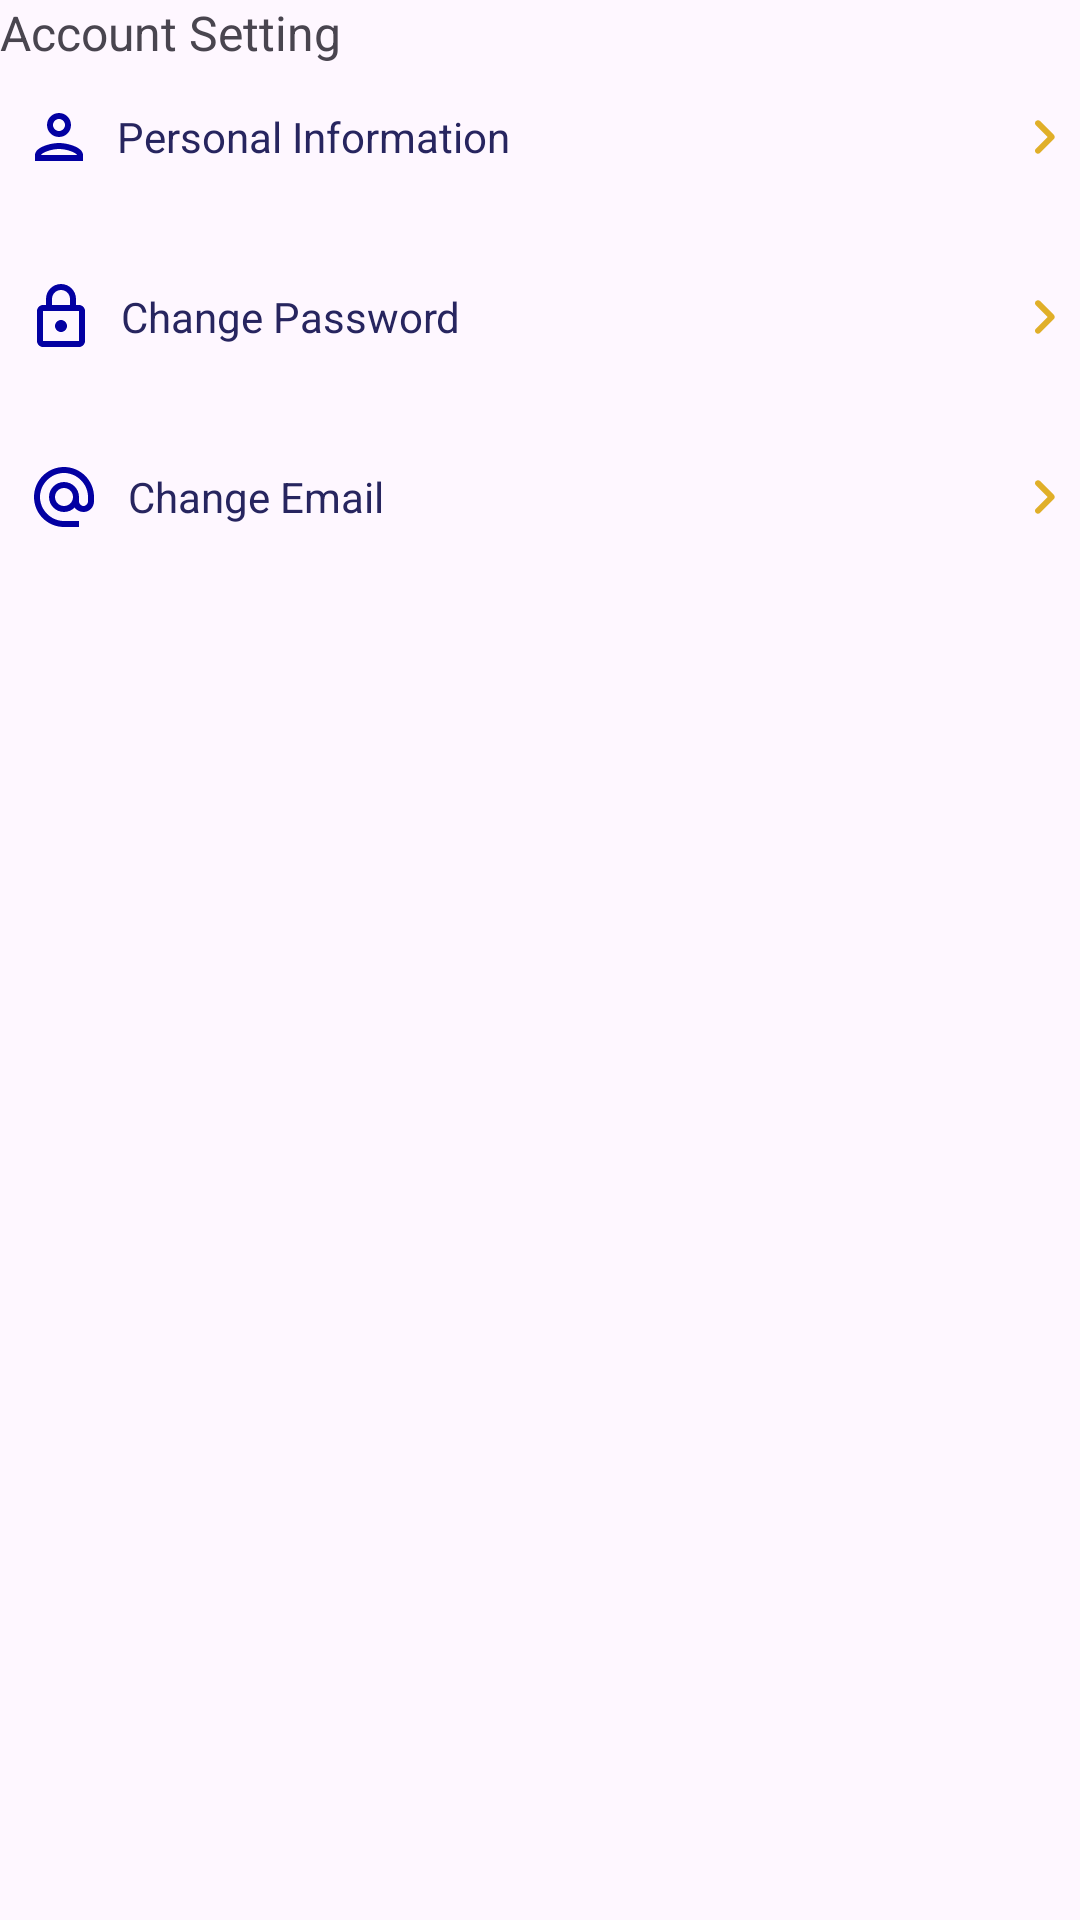

Icon bounding boxes for this 1080*1920 phone screenshot, format (x1, y1, x2, y2):
go to: (1035, 120, 1055, 154), (1035, 300, 1055, 334), (1035, 480, 1055, 514)
lock: (37, 284, 85, 347)
person profile: (35, 113, 83, 161)
